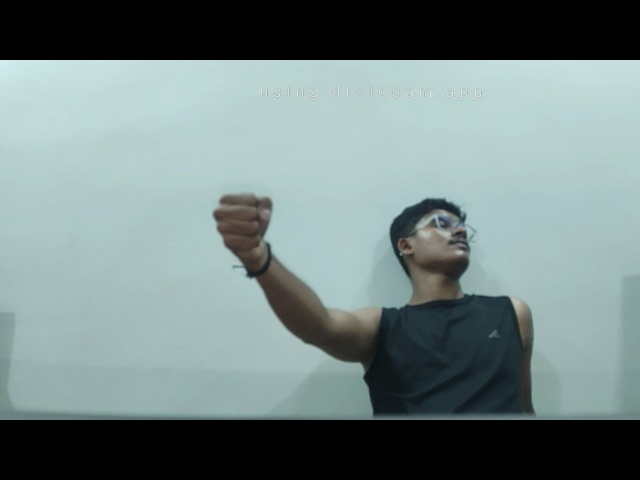yes: (208, 185, 284, 271)
